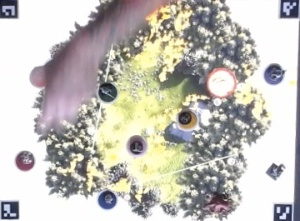blue: (94, 187, 121, 210)
green: (97, 80, 118, 103)
pink: (121, 130, 153, 156)
red: (9, 147, 36, 170)
violet: (262, 59, 287, 84)
yellow: (176, 106, 202, 131)
